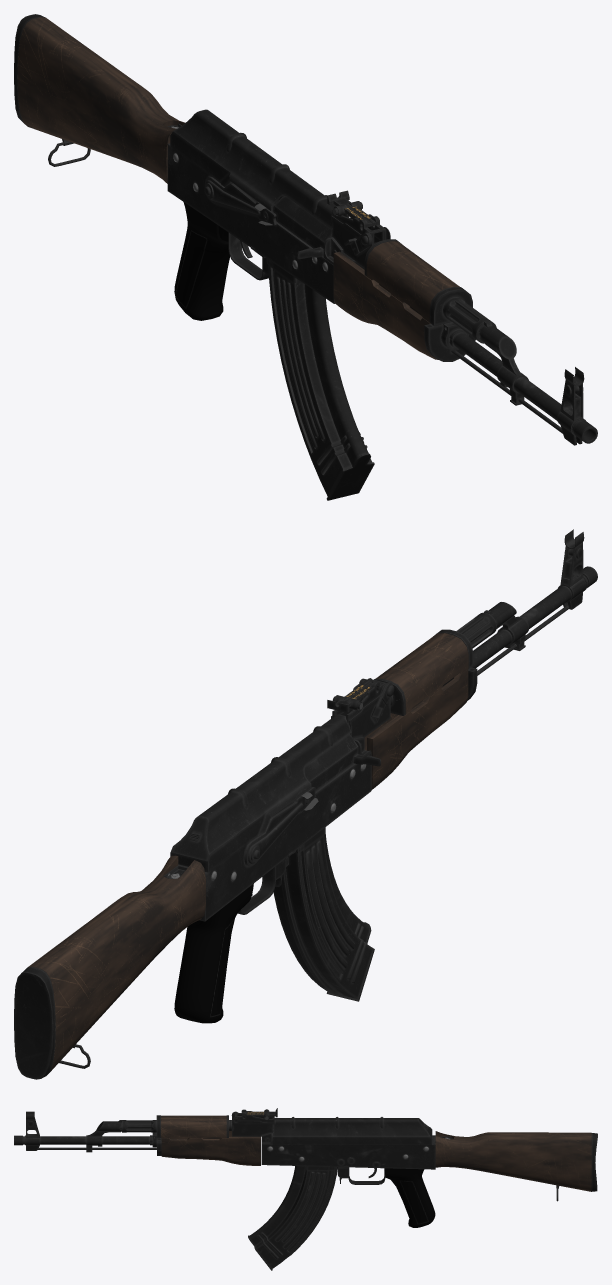
3 renders of one model, top to bottom at view 1: azimuth 30°, elevation 25°; view 2: azimuth 150°, elevation 25°; view 3: azimuth 270°, elevation 25°, orthographic. The views are drawn at different scales.
Parts seen in each view (by area): view 1: bake; view 2: bake; view 3: bake.
Part boxes in pixels (box(x1,y1,x2,y2)): bake: box(14, 14, 597, 500); bake: box(14, 529, 597, 1079); bake: box(14, 1108, 597, 1270).
Size of the model in its own units: 0.067 by 0.2626 by 0.8886.
1 material, 1 textured.
